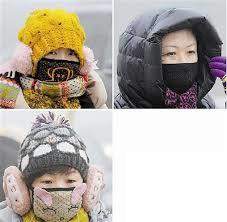OK: (33, 170, 86, 222), (37, 43, 82, 89)
WRONG: (158, 42, 201, 88)
